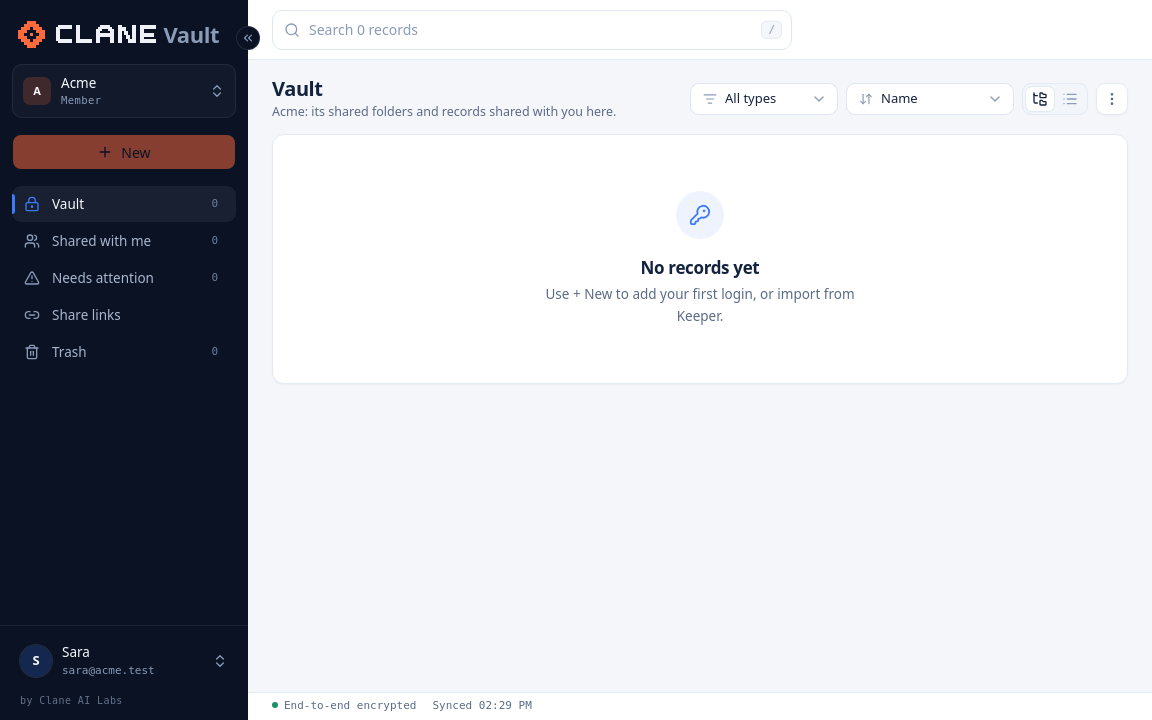
Scenario: collapsible sidebar › Ctrl+B (or the edge button) switches to the icon rail and back, remembered on this device
Type keys "{Control>}b{/Control}"
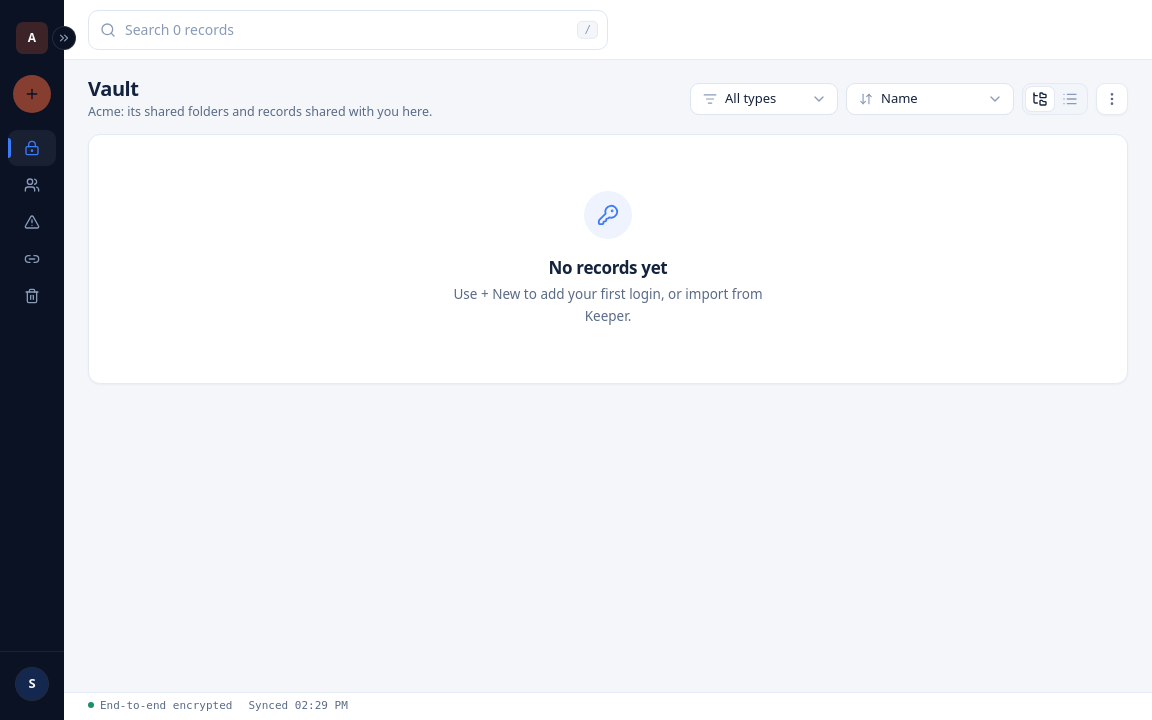
Expected: the button named "New" does not show "New", [12, 74, 52, 114]
Expected: the navigation bar named "Sections" has attribute data-collapsed, [0, 0, 64, 719]
Click the button named "Expand sidebar" at (64, 38), box [52, 26, 76, 50]
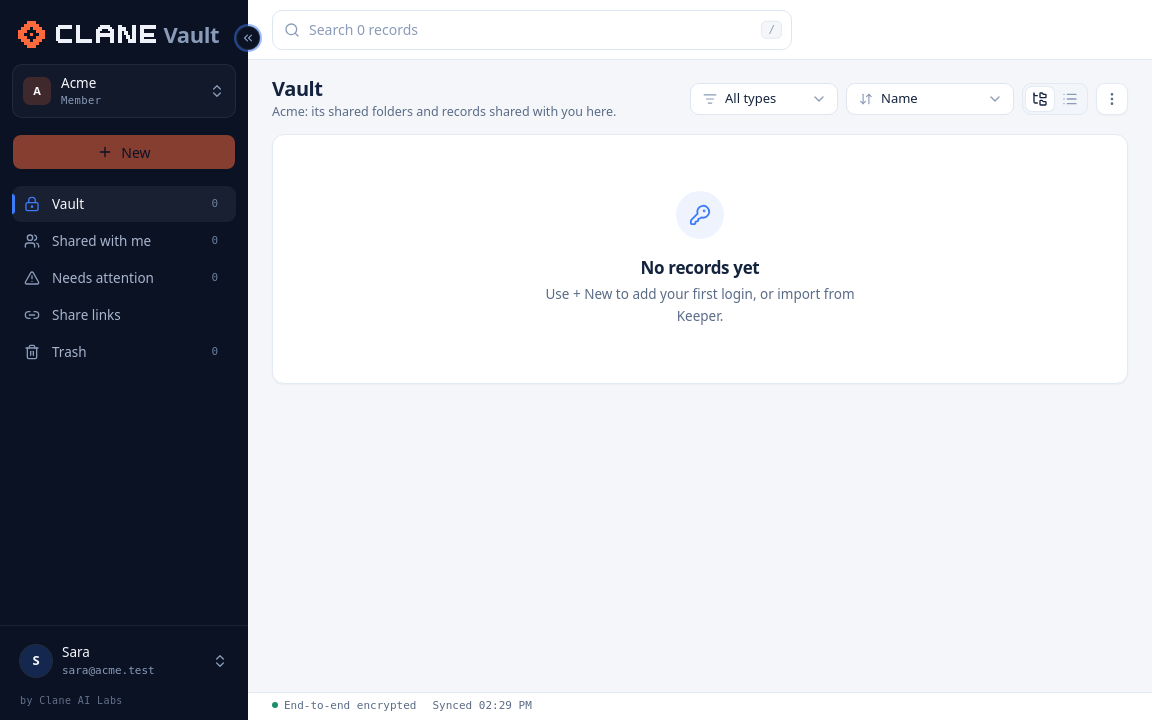
Expected: the navigation bar named "Sections" does not have attribute data-collapsed, [0, 0, 248, 719]
